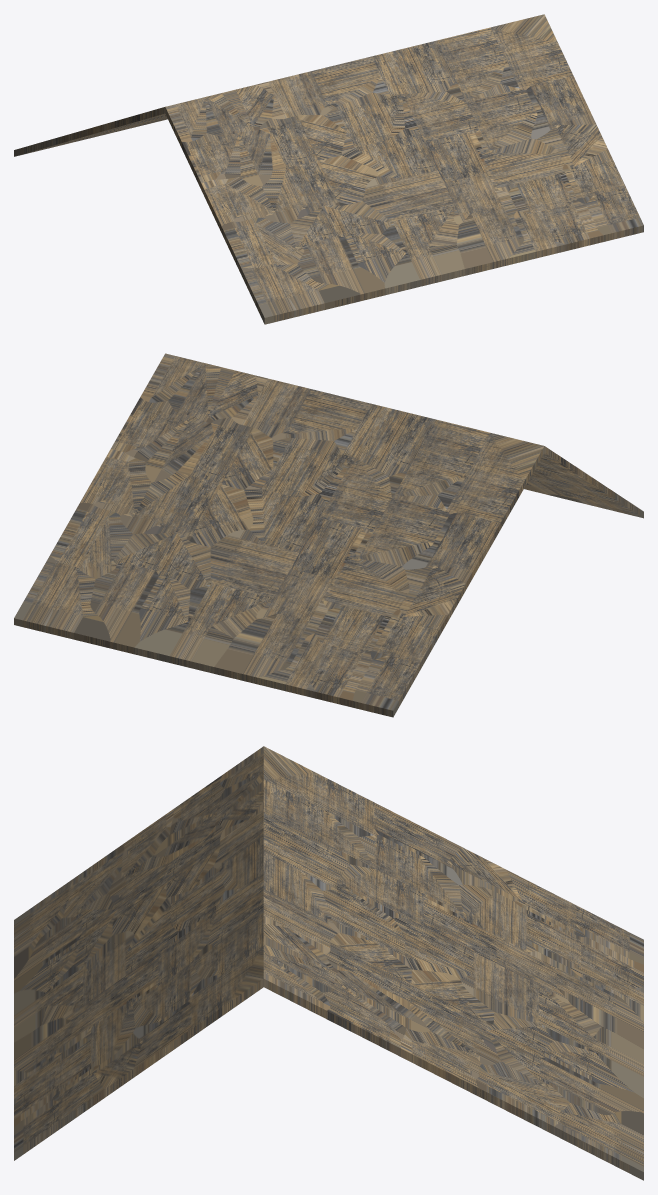
File: BW_FamilyCottageB01_RoofDeck.fbx
The picture shows the model from 3 angles, top to bottom: view 1: azimuth 30°, elevation 25°; view 2: azimuth 150°, elevation 25°; view 3: azimuth 270°, elevation 25°; orthographic projection. The views are drawn at different scales.
Visible parts, largest first — view 1: BW_FamilyCottageB01_RoofDeck; view 2: BW_FamilyCottageB01_RoofDeck; view 3: BW_FamilyCottageB01_RoofDeck.
Part boxes in pixels (<box>): BW_FamilyCottageB01_RoofDeck: <box>14,14,643,324</box>; BW_FamilyCottageB01_RoofDeck: <box>14,353,643,717</box>; BW_FamilyCottageB01_RoofDeck: <box>14,746,643,1180</box>.
Bounding box in the file's own units: 7.6 × 3.08 × 8.7.
